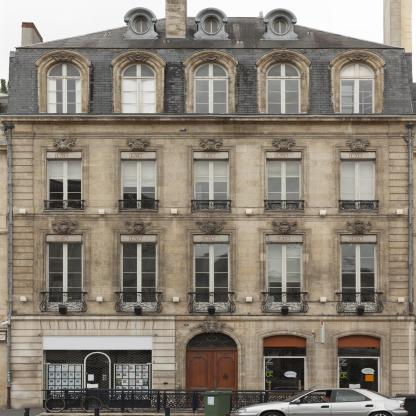Building Outline: (0, 0, 416, 408)
Cornice: (109, 49, 168, 68), (34, 49, 92, 68), (329, 49, 387, 67), (182, 49, 240, 67), (255, 49, 312, 67), (195, 7, 228, 22), (264, 8, 297, 22), (124, 7, 157, 21)
Deco: (189, 316, 233, 334), (195, 221, 226, 234), (345, 220, 373, 234), (270, 221, 299, 234), (50, 221, 78, 234), (125, 221, 153, 234), (51, 138, 77, 151), (126, 138, 151, 151), (198, 138, 223, 151), (272, 138, 297, 151), (346, 138, 371, 151)
Door: (186, 351, 238, 409), (83, 352, 111, 408)
Facade: (7, 121, 404, 408)
Floor: (7, 220, 415, 321), (7, 126, 415, 221), (16, 53, 404, 126)
Floor Slab: (7, 316, 416, 321), (7, 216, 416, 221), (7, 121, 416, 126), (16, 48, 404, 53)
Ground Floor: (7, 321, 415, 408)
Roof: (15, 17, 405, 49)
Shop: (43, 350, 152, 408)
Sill: (44, 210, 84, 214), (339, 210, 379, 214), (265, 210, 305, 214), (191, 210, 231, 214), (118, 210, 158, 214)
Top Floor: (16, 7, 404, 53)
Window: (337, 334, 382, 408), (263, 334, 307, 408), (340, 234, 378, 313), (46, 234, 83, 313), (120, 234, 157, 313), (193, 234, 230, 313), (266, 234, 303, 313), (341, 152, 376, 211), (47, 151, 82, 210), (121, 151, 156, 210), (194, 151, 229, 210), (267, 151, 302, 210), (46, 61, 82, 113), (120, 61, 156, 113), (193, 61, 229, 113), (265, 61, 301, 113), (340, 61, 375, 113), (186, 332, 237, 350)
dont: (40, 382, 416, 416), (94, 407, 100, 416), (24, 407, 30, 416), (165, 407, 170, 416)
